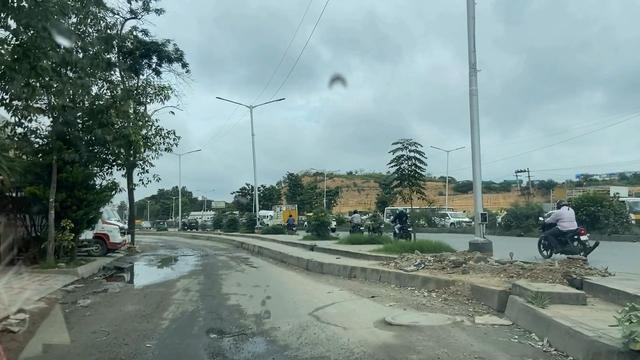RoadDamages: (376, 303, 473, 336), (202, 317, 271, 360)
